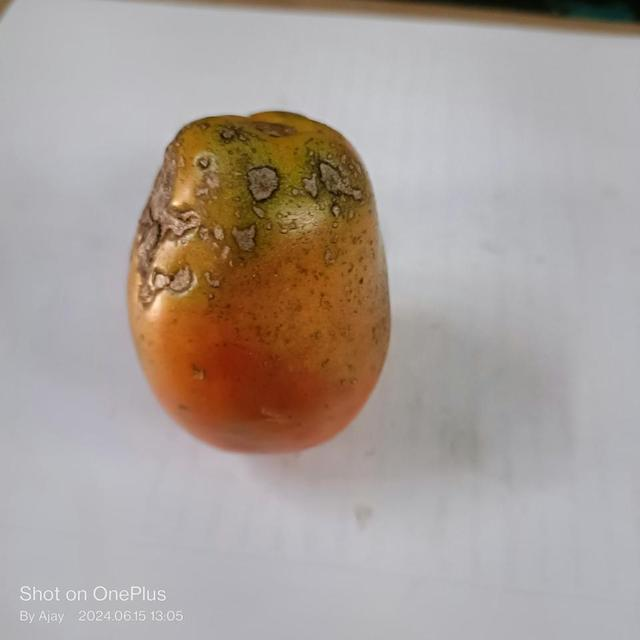Bacterial Spot Fruit: (8, 10, 222, 192)
